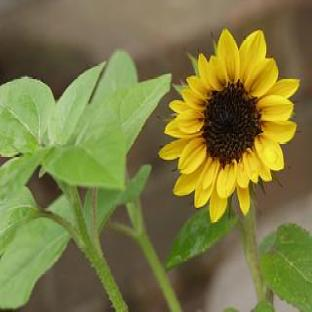sunflower: (159, 29, 300, 304)
